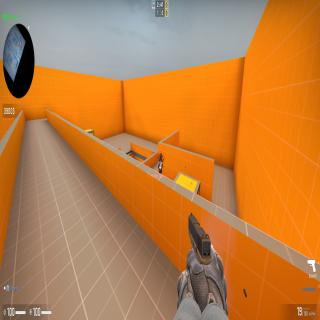T-Body: (158, 157, 162, 175)
T-Head: (159, 157, 160, 162)
